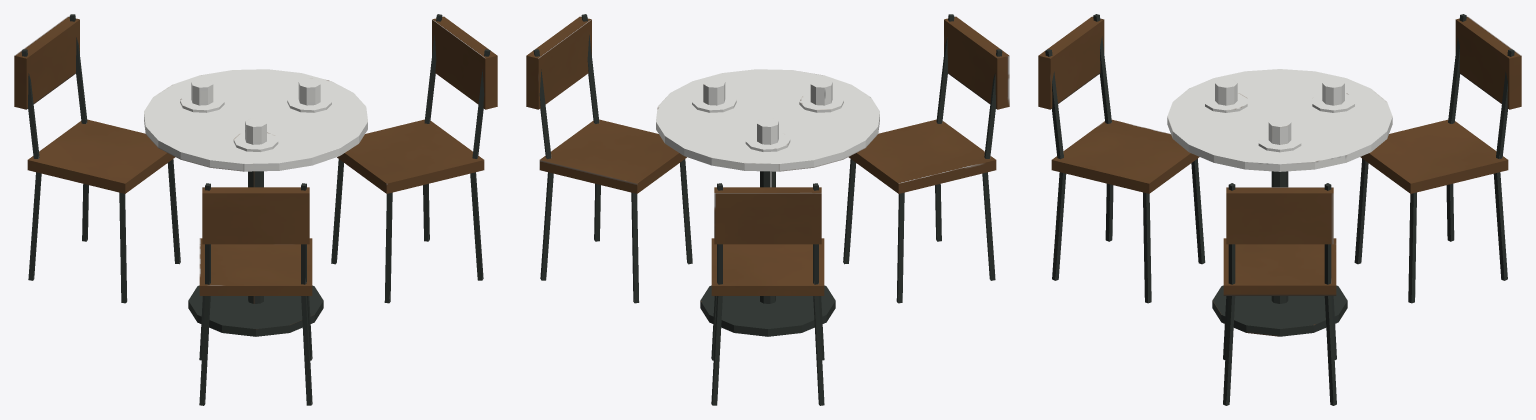
File: stolek_kavarna_7434ee83.glb
The picture shows the model from 3 angles, left to right: view 1: azimuth 30°, elevation 25°; view 2: azimuth 150°, elevation 25°; view 3: azimuth 270°, elevation 25°; orthographic projection.
Visible parts, largest first — view 1: dum; view 2: dum; view 3: dum.
Boxes of the visible parts, x1,y1,x2,y2 form: dum: (14,14,497,405); dum: (526,14,1009,405); dum: (1038,14,1521,405).
Bounding box in the file's own units: 1.48 × 0.88 × 1.71.
Materials: 1 (1 with a texture image).
